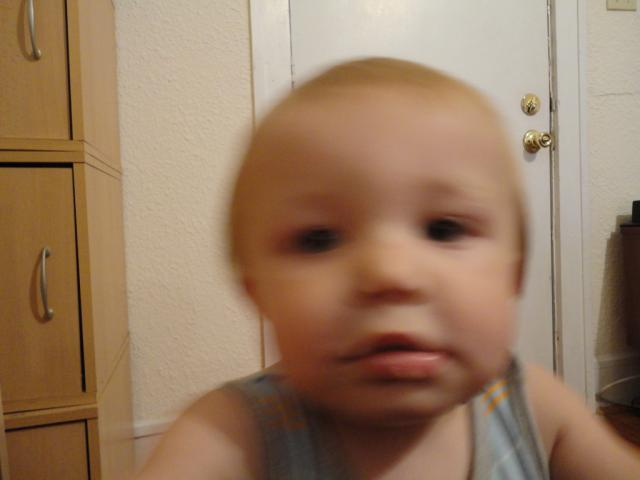Door-handle: (41, 246, 55, 320), (27, 0, 43, 61), (522, 128, 554, 156), (521, 92, 539, 118)
